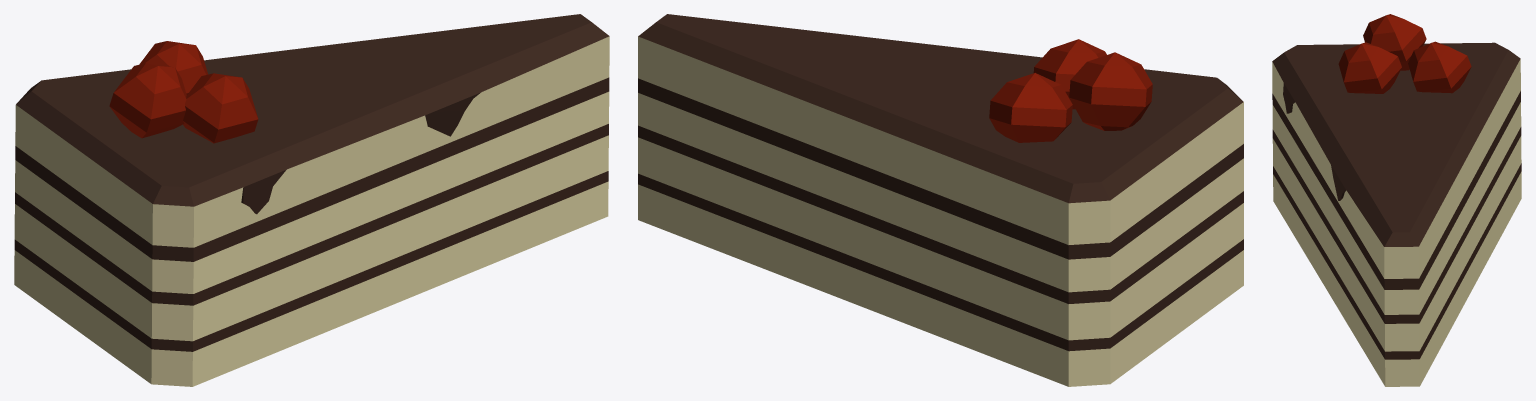
Rendered from cheesecake.fbx.
3 views of the same model, side by side, from view 1: azimuth 30°, elevation 25°; view 2: azimuth 150°, elevation 25°; view 3: azimuth 270°, elevation 25° (orthographic). The views are drawn at different scales.
Parts seen in each view (by area): view 1: cheesecake, cheesecake.001, cheesecake.002; view 2: cheesecake, cheesecake.001; view 3: cheesecake, cheesecake.002, cheesecake.001.
Part boxes in pixels (<box>): cheesecake: <box>14,14,591,383</box>; cheesecake.001: <box>109,43,403,386</box>; cheesecake.002: <box>391,22,609,301</box>; cheesecake: <box>638,14,1243,386</box>; cheesecake.001: <box>1036,39,1241,199</box>; cheesecake: <box>1273,14,1521,385</box>; cheesecake.002: <box>1325,142,1419,386</box>; cheesecake.001: <box>1272,15,1452,293</box>.
Bounding box in the file's own units: 101 × 48.02 × 53.9.
